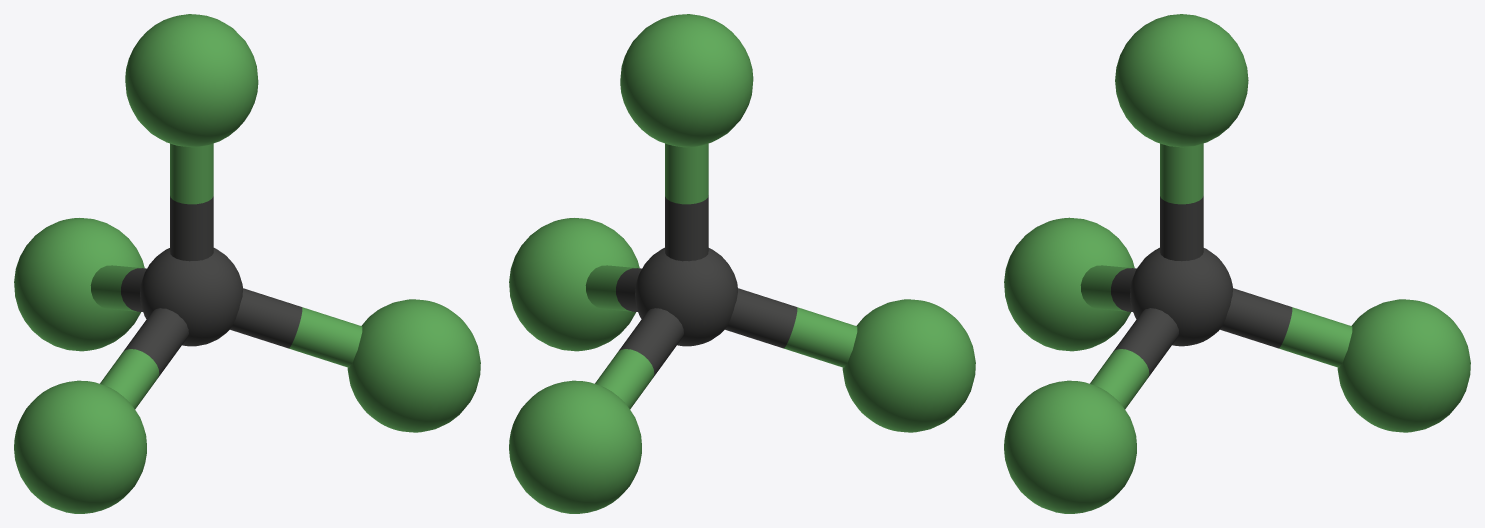
Rendered from CCl4.FBX.
The picture shows the model from 3 angles, left to right: view 1: azimuth 30°, elevation 25°; view 2: azimuth 150°, elevation 25°; view 3: azimuth 270°, elevation 25°; orthographic projection.
Parts seen in each view (by area): view 1: 对象009; view 2: 对象009; view 3: 对象009.
Boxes of the visible parts, bbox=[...] form: 对象009: bbox=[14, 14, 480, 513]; 对象009: bbox=[509, 14, 975, 513]; 对象009: bbox=[1004, 14, 1470, 513].
Bounding box in the file's own units: 76.84 × 66.47 × 69.23.
